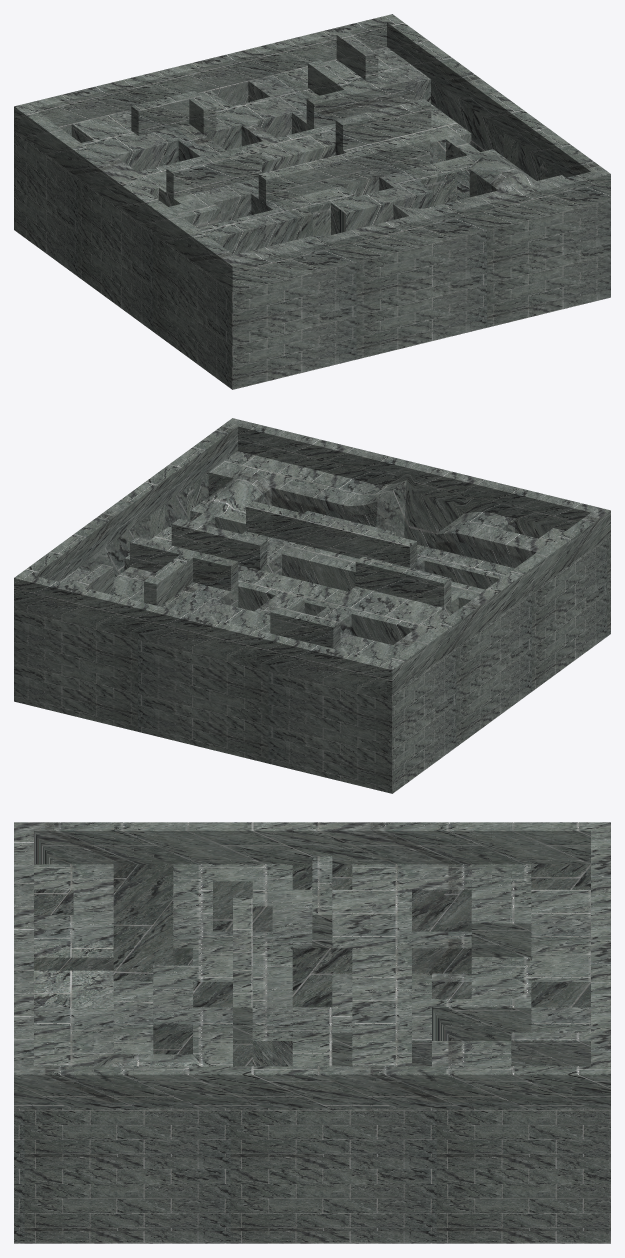
The model's file is MazeMap.obj.
3 renders of one model, top to bottom at view 1: azimuth 30°, elevation 25°; view 2: azimuth 150°, elevation 25°; view 3: azimuth 270°, elevation 25°, orthographic. The views are drawn at different scales.
Parts seen in each view (by area): view 1: pCube1; view 2: pCube1; view 3: pCube1.
Part boxes in pixels (box(x1,y1,x2,y2)): pCube1: box(14, 14, 610, 389); pCube1: box(14, 418, 610, 793); pCube1: box(14, 822, 610, 1243).
Bounding box in the file's own units: 28.11 × 8.78 × 28.11.
1 material, 1 textured.
